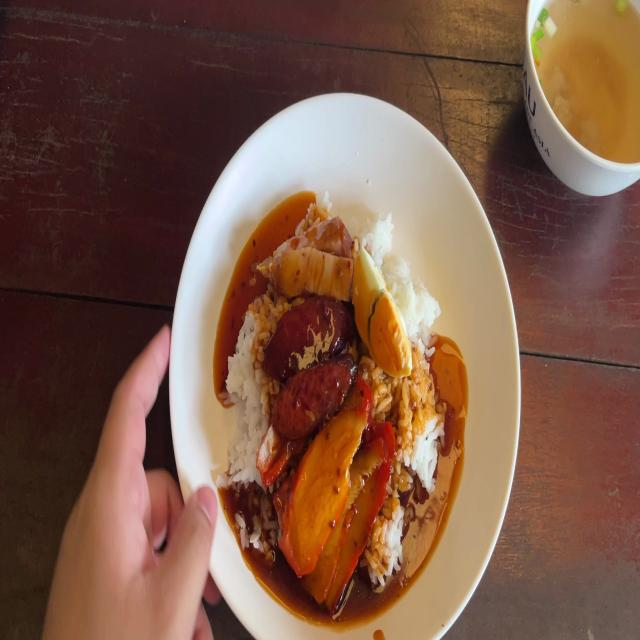red_pork_and_crispy_pork: (356, 253, 410, 374)
stir_fried_basil: (264, 291, 349, 420), (262, 289, 353, 360), (270, 359, 358, 421)
